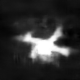plane: (15, 24, 79, 66)
